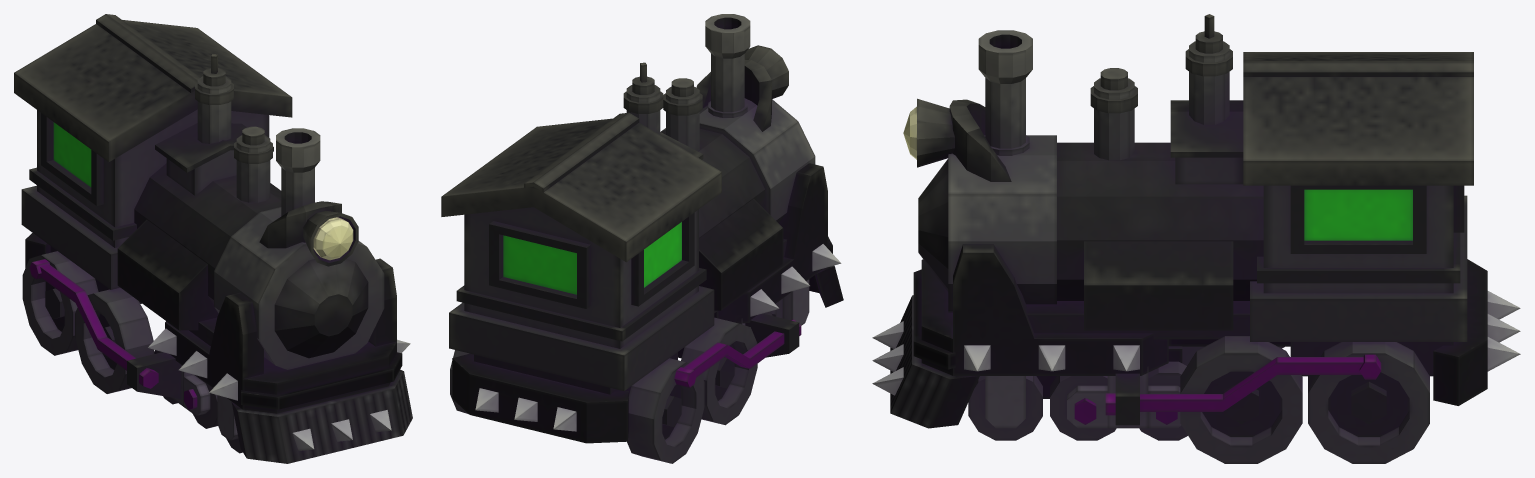
The model's file is GhostTrainModel.fbx.
3 views of the same model, side by side, from view 1: azimuth 30°, elevation 25°; view 2: azimuth 150°, elevation 25°; view 3: azimuth 270°, elevation 25° (orthographic). The views are drawn at different scales.
Visible parts, largest first — view 1: MDL_GhostTrain; view 2: MDL_GhostTrain; view 3: MDL_GhostTrain.
Part boxes in pixels (x1,y1,x2,y2): MDL_GhostTrain: [14, 14, 412, 463]; MDL_GhostTrain: [441, 14, 843, 463]; MDL_GhostTrain: [872, 14, 1520, 463].
Bounding box in the file's own units: 150 × 197 × 299.
Materials: 1 (1 with a texture image).
